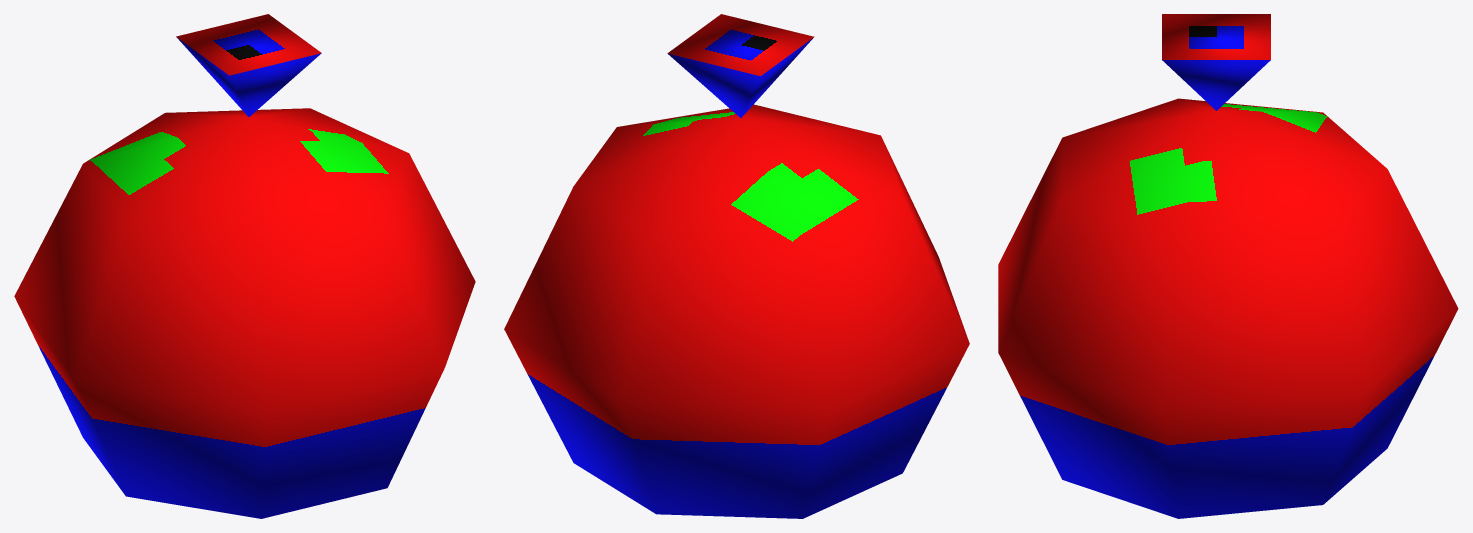
File: Bomb.fbx
3 renders of one model, left to right at view 1: azimuth 30°, elevation 25°; view 2: azimuth 150°, elevation 25°; view 3: azimuth 270°, elevation 25°, orthographic.
Visible parts, largest first — view 1: sphere, pyramid; view 2: sphere, pyramid; view 3: sphere, pyramid.
Boxes of the visible parts, x1=… form: sphere: x1=14, y1=108, x2=475, y2=518; pyramid: x1=176, y1=14, x2=321, y2=116; sphere: x1=504, y1=104, x2=969, y2=518; pyramid: x1=667, y1=14, x2=814, y2=117; sphere: x1=998, y1=98, x2=1458, y2=518; pyramid: x1=1162, y1=14, x2=1270, y2=110.
Bounding box in the file's own units: 108 × 119 × 105.
